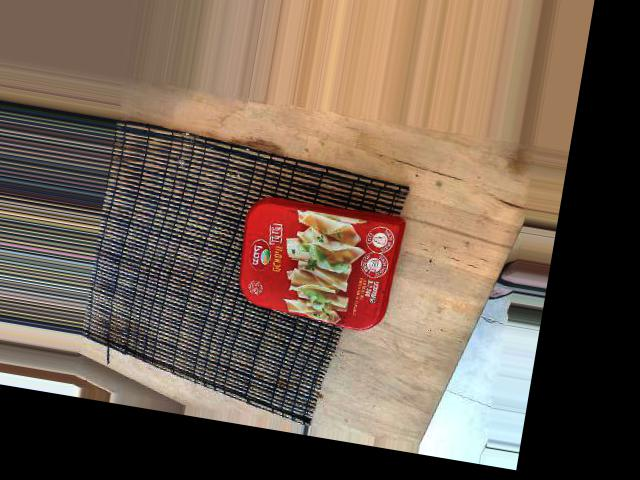cheese: (224, 207, 404, 341)
